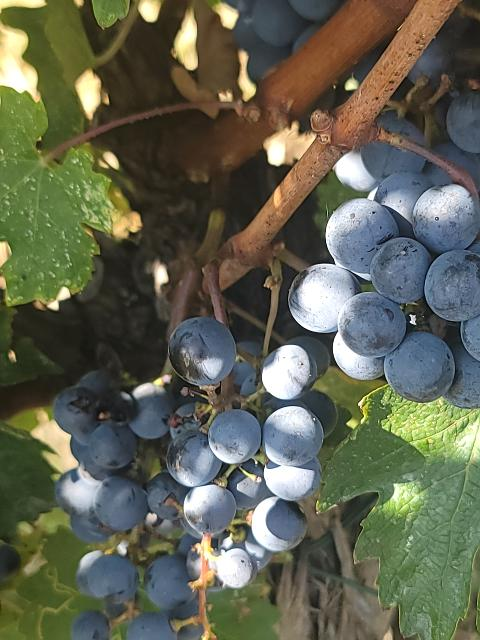grapes: (54, 370, 259, 640), (289, 141, 479, 409), (166, 336, 336, 588)
